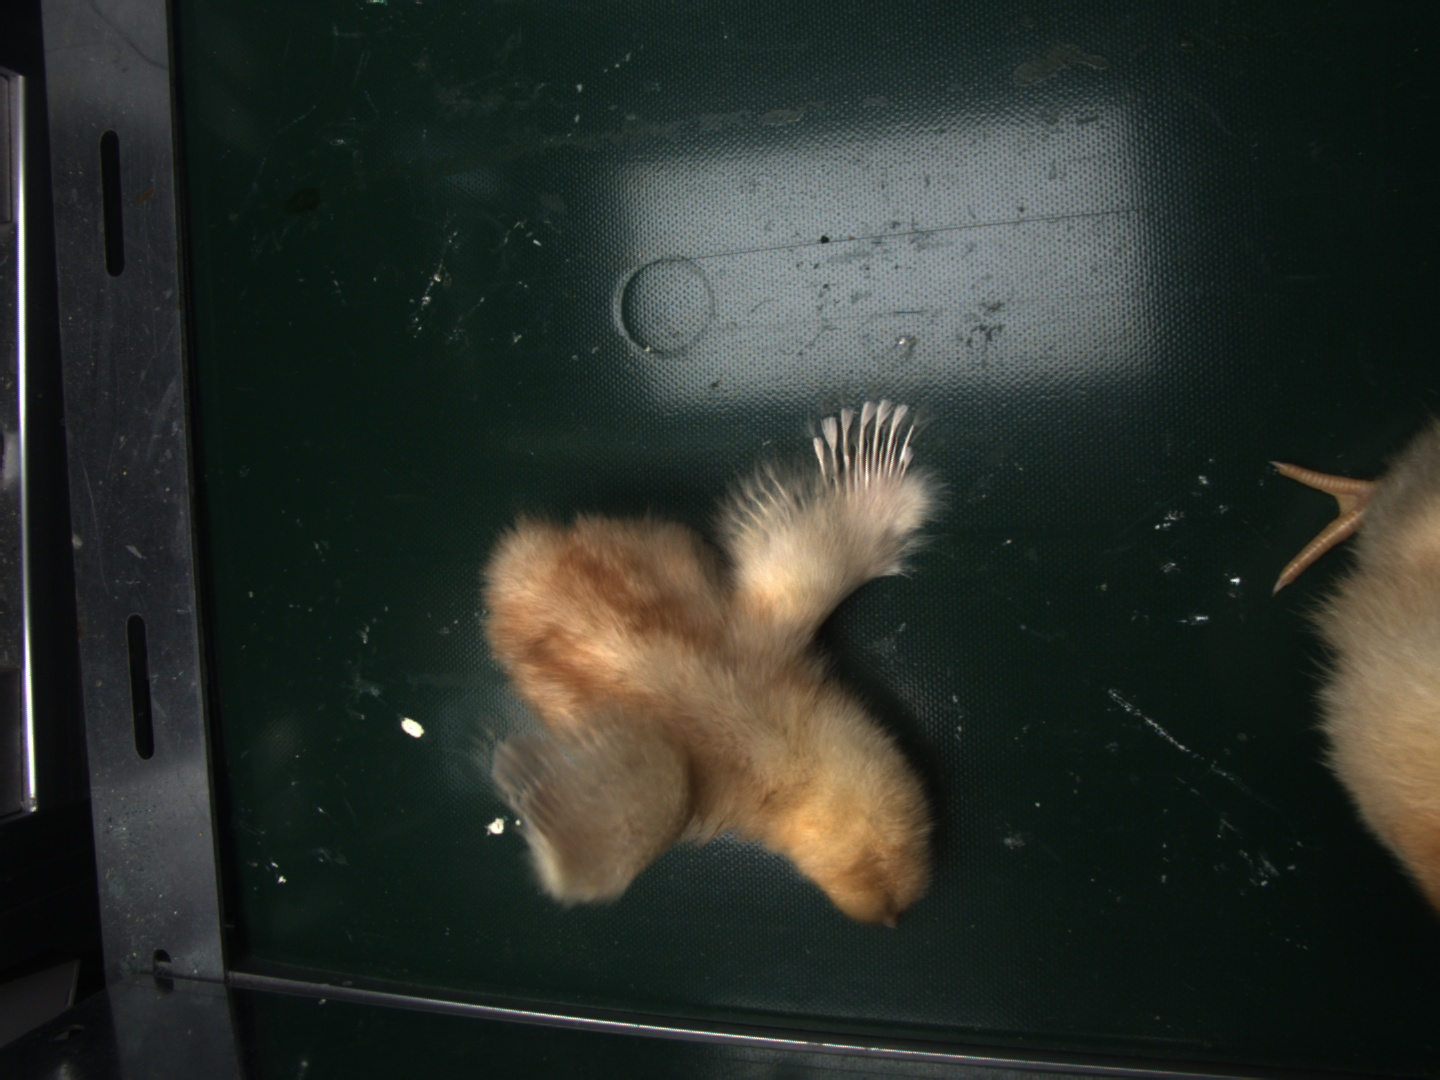female: (816, 400, 916, 492)
